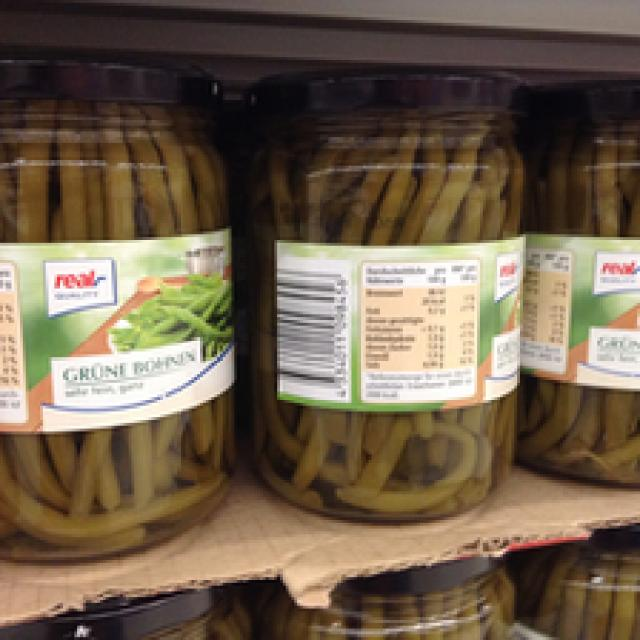groceries: (251, 63, 526, 528), (0, 57, 229, 563), (523, 49, 637, 492)
